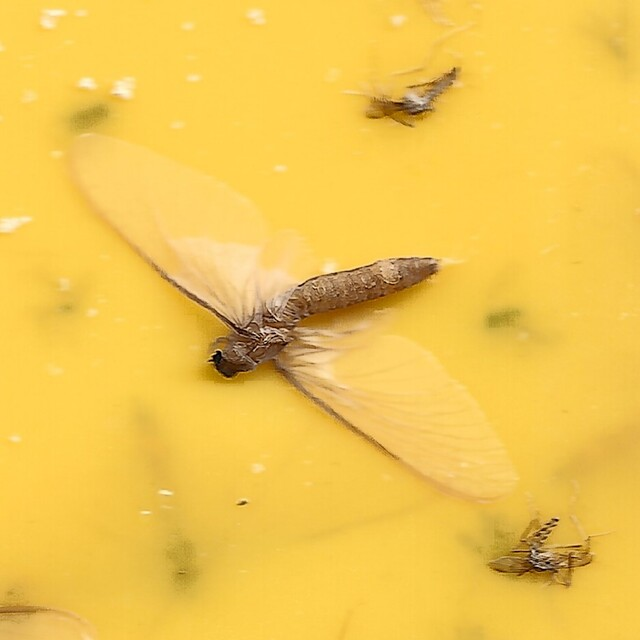Ephemeroptera: (68, 133, 524, 501)
Nematocera: (365, 62, 461, 126), (486, 518, 572, 578)
